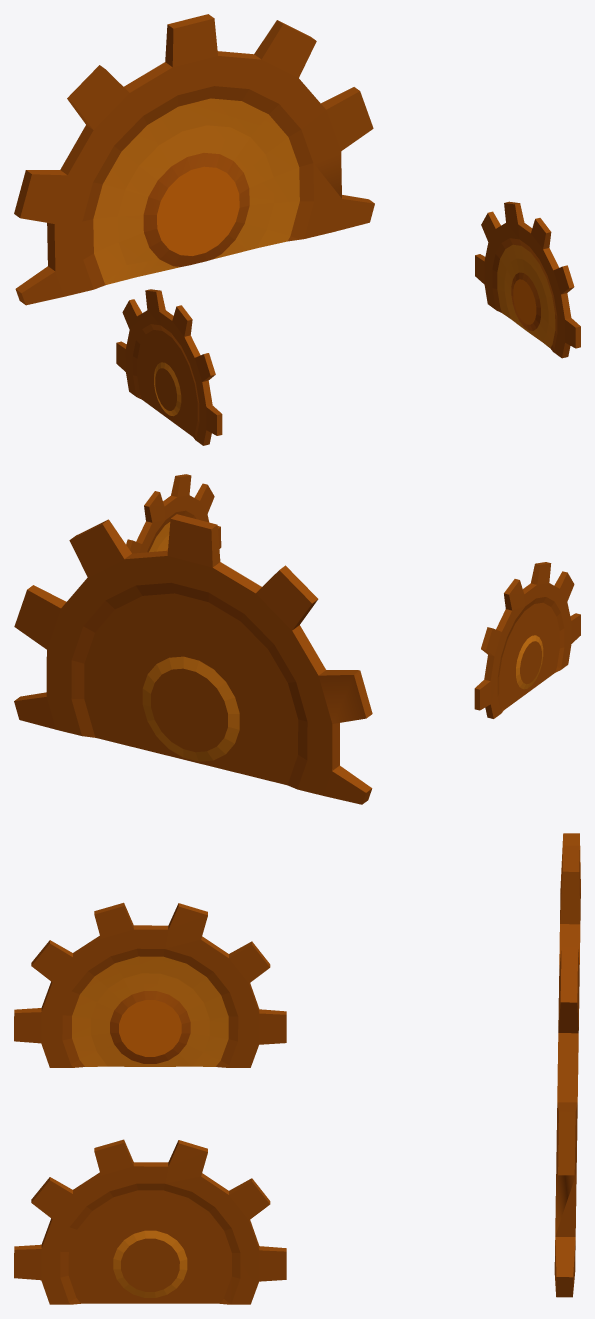
File: obj_gear.gltf
3 views of the same model, one above another, from view 1: azimuth 30°, elevation 25°; view 2: azimuth 150°, elevation 25°; view 3: azimuth 270°, elevation 25° (orthographic). The views are drawn at different scales.
Parts seen in each view (by area): view 1: obj_gear; view 2: obj_gear; view 3: obj_gear.
Part boxes in pixels (x1,y1,x2,y2): obj_gear: (14, 14, 580, 445); obj_gear: (14, 474, 580, 804); obj_gear: (14, 833, 580, 1304).
Size of what is drawn, in the model's own units: 15.39 by 9.66 by 15.3.
1 material, 1 textured.
